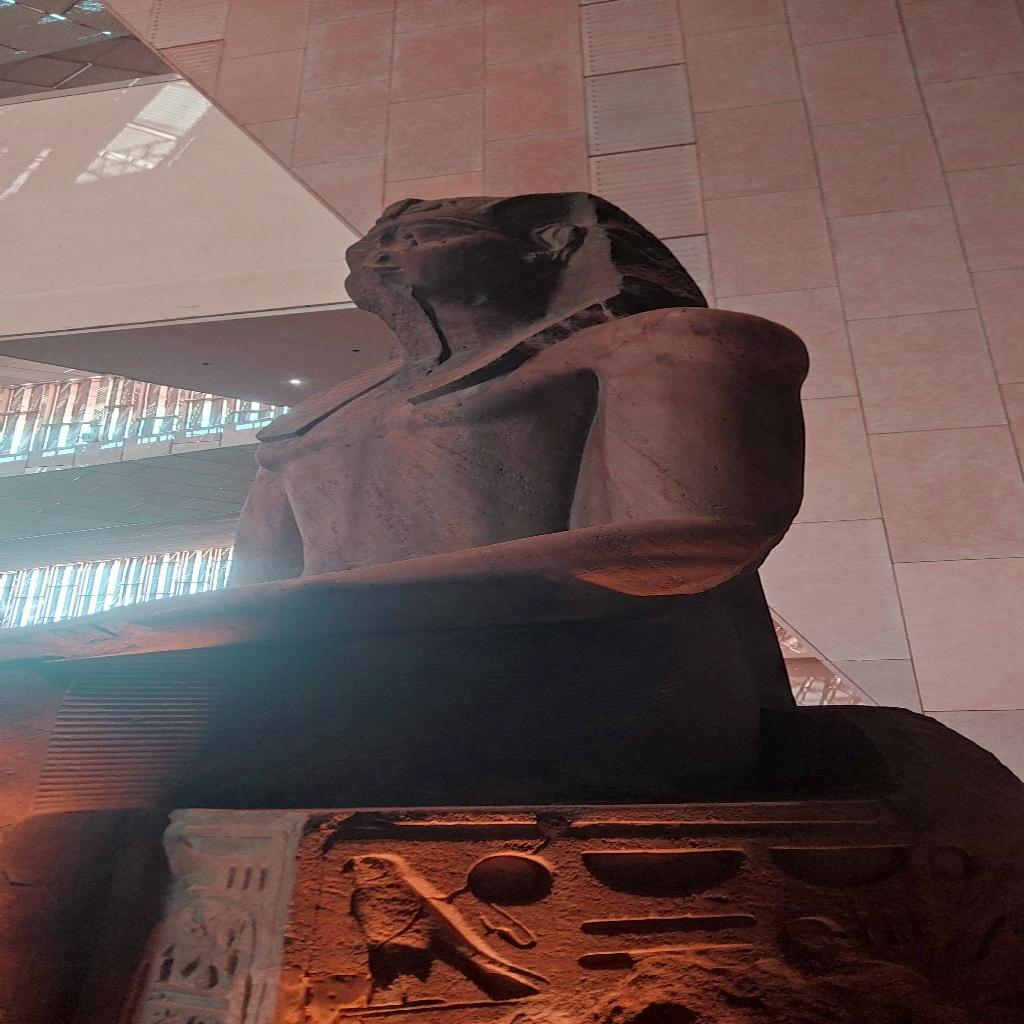Colossal Statue of Middle Kingdom King: (10, 188, 1015, 1018)
